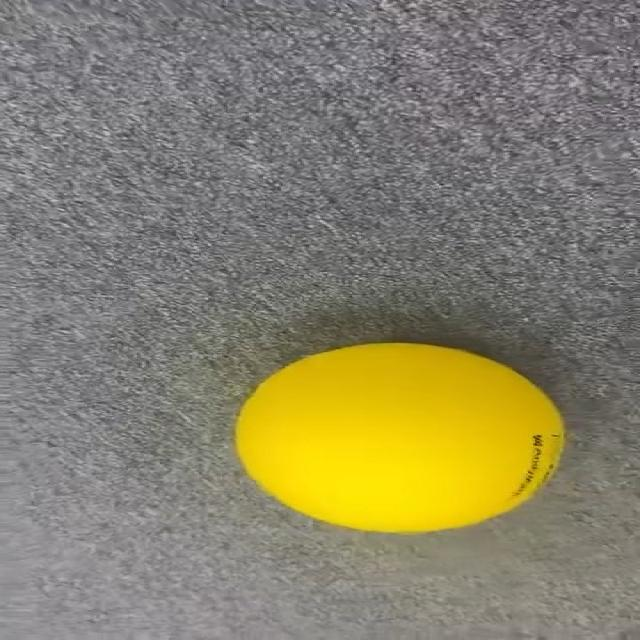Fuels: (236, 344, 562, 531)
